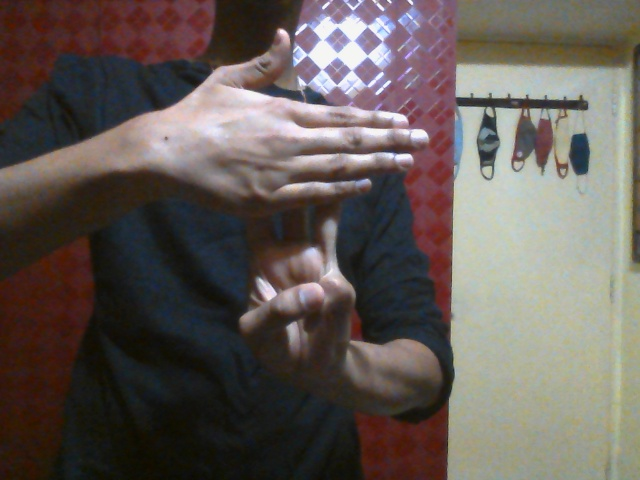M: (171, 27, 429, 374)
